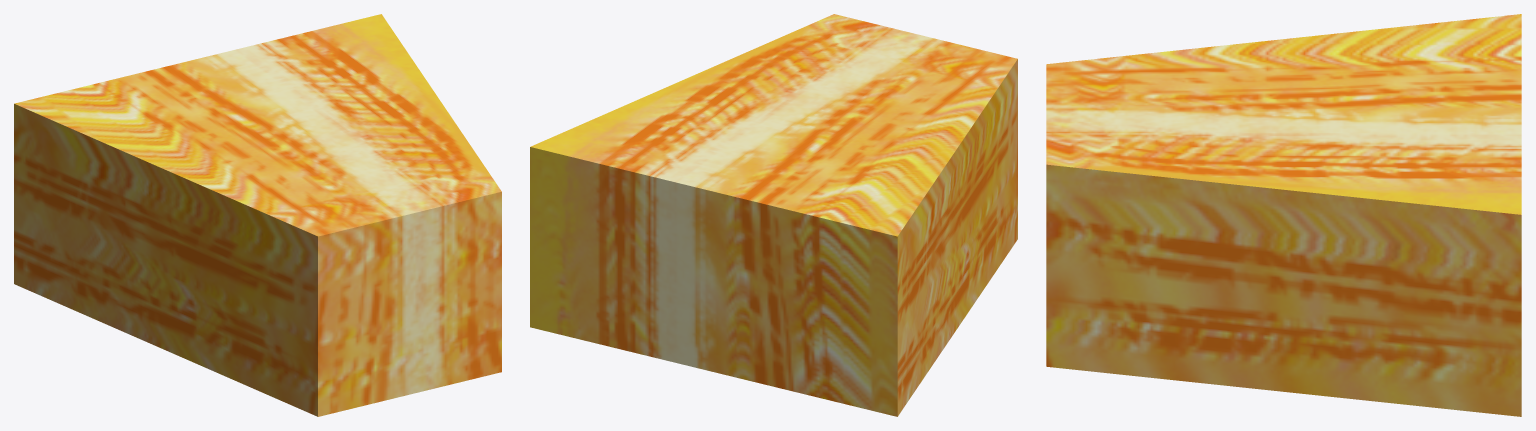
The model's file is SM_Pineapple.fbx.
The picture shows the model from 3 angles, left to right: view 1: azimuth 30°, elevation 25°; view 2: azimuth 150°, elevation 25°; view 3: azimuth 270°, elevation 25°; orthographic projection. The views are drawn at different scales.
Visible parts, largest first — view 1: SM_Pineapple; view 2: SM_Pineapple; view 3: SM_Pineapple.
Part boxes in pixels (x1,y1,x2,y2): SM_Pineapple: [14, 14, 501, 416]; SM_Pineapple: [530, 14, 1017, 416]; SM_Pineapple: [1046, 14, 1521, 416].
Bounding box in the file's own units: 0.3136 × 0.1471 × 0.3136.
